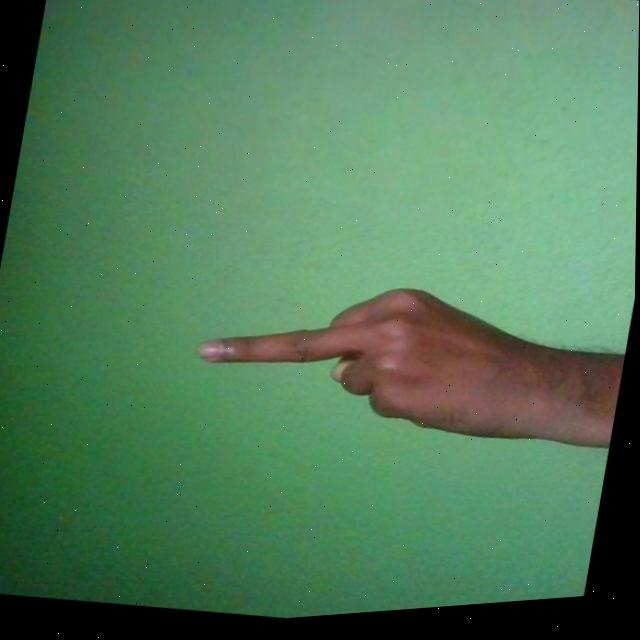Middle Finger: (186, 249, 627, 483)
